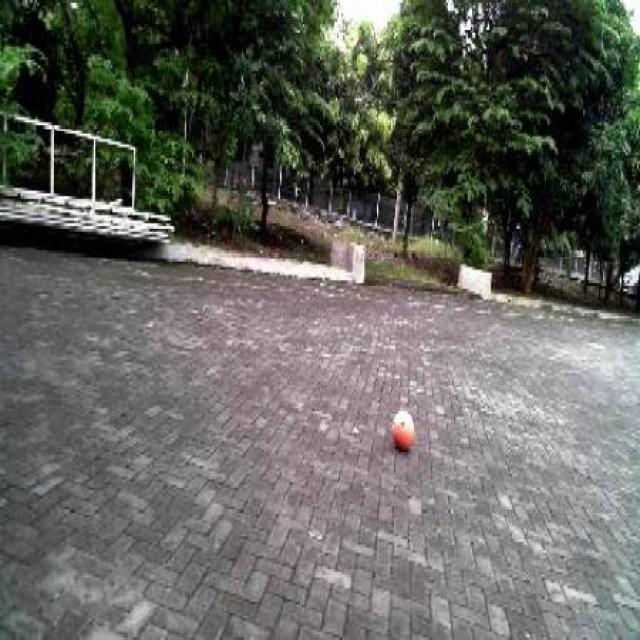buoy: (386, 396, 418, 456)
